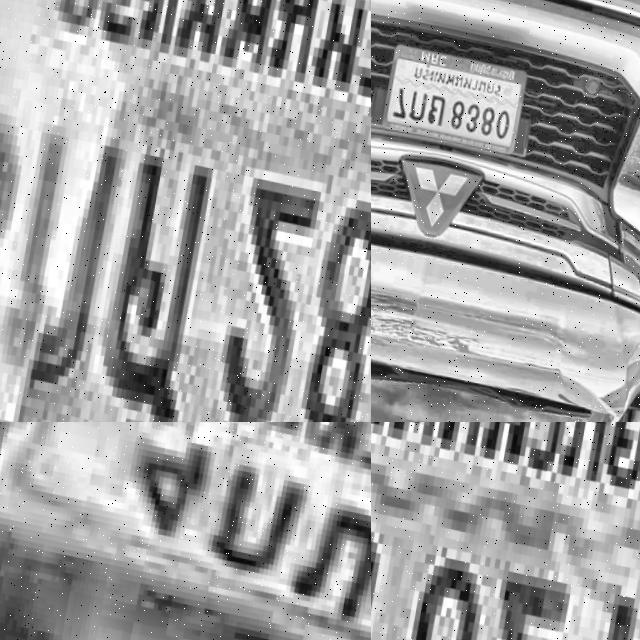license-plate: (0, 0, 371, 422), (0, 422, 371, 640), (371, 422, 640, 640), (382, 28, 536, 154)
